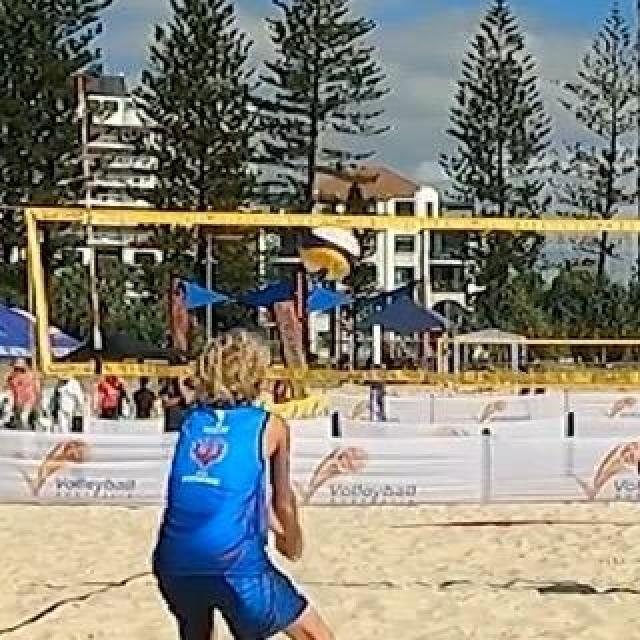volleyball: (297, 224, 359, 282)
